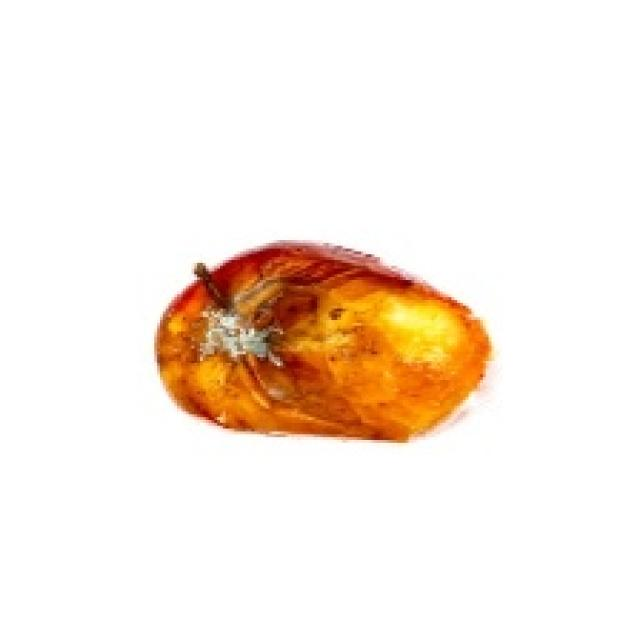rotten_apple: (160, 246, 350, 435)
